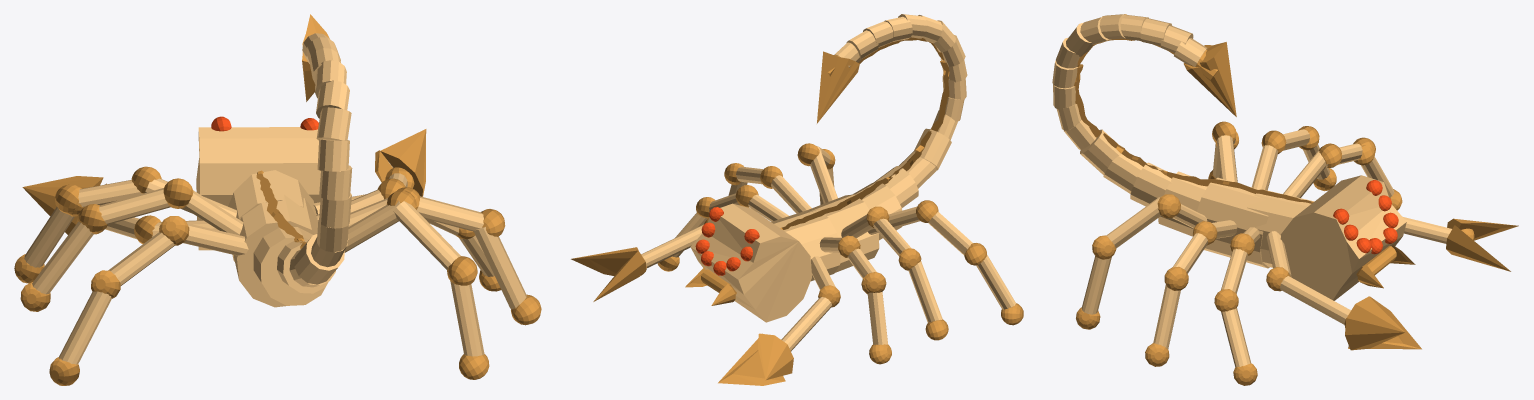
The model's file is scene_UMjBV6t5Fo.glb.
3 renders of one model, left to right at view 1: azimuth 30°, elevation 25°; view 2: azimuth 150°, elevation 25°; view 3: azimuth 270°, elevation 25°, orthographic. The views are drawn at different scales.
Visible parts, largest first — view 1: Node; view 2: Node; view 3: Node.
Part boxes in pixels (bbox=[...]): Node: bbox=[14, 14, 541, 385]; Node: bbox=[571, 14, 1023, 385]; Node: bbox=[1052, 14, 1518, 385].
Bounding box in the file's own units: 0.5493 × 0.3692 × 0.5657.
